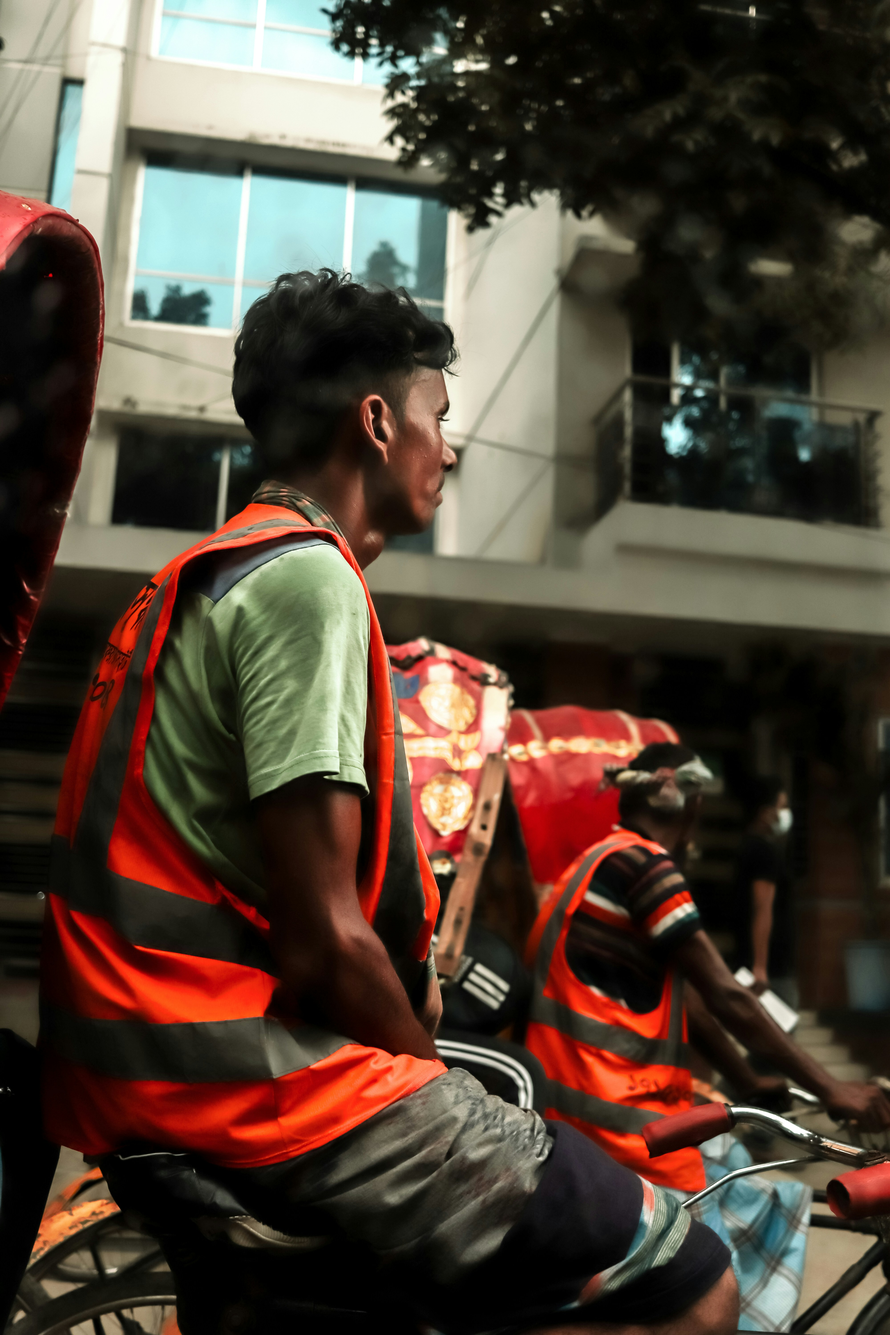No_Helmet: (231, 270, 477, 537)
